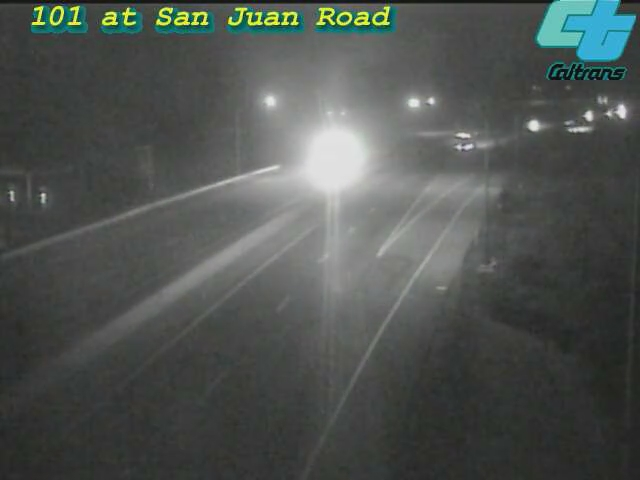vehicle: (313, 130, 363, 180), (511, 99, 561, 149), (548, 104, 598, 154), (444, 113, 494, 163), (564, 91, 614, 141), (596, 87, 640, 137)
